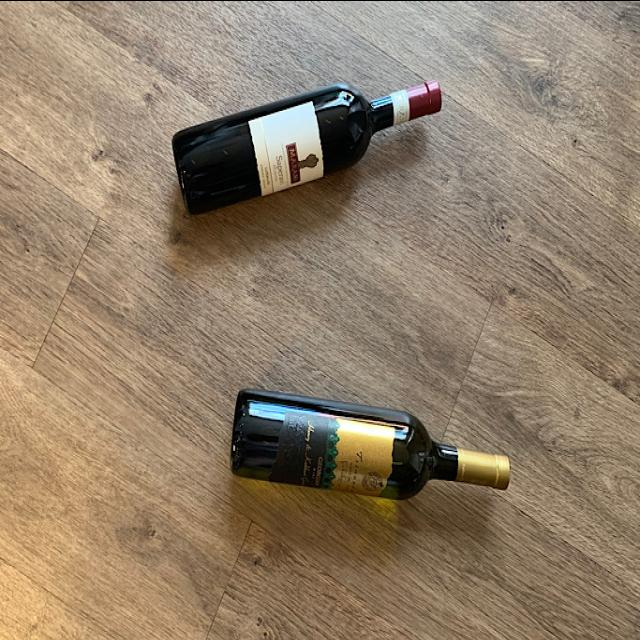litter: (172, 75, 444, 217), (227, 382, 515, 503)
